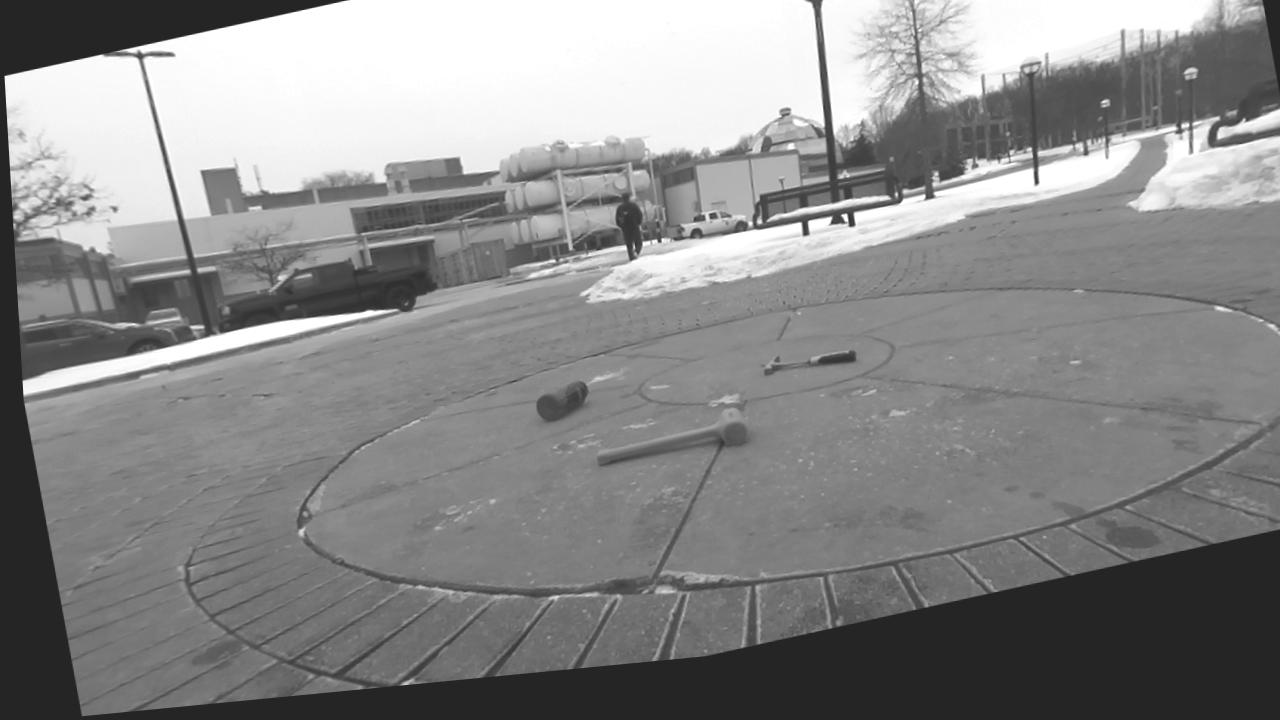bottle: (536, 381, 587, 421)
mallet: (596, 407, 748, 465)
pick: (764, 350, 856, 375)
